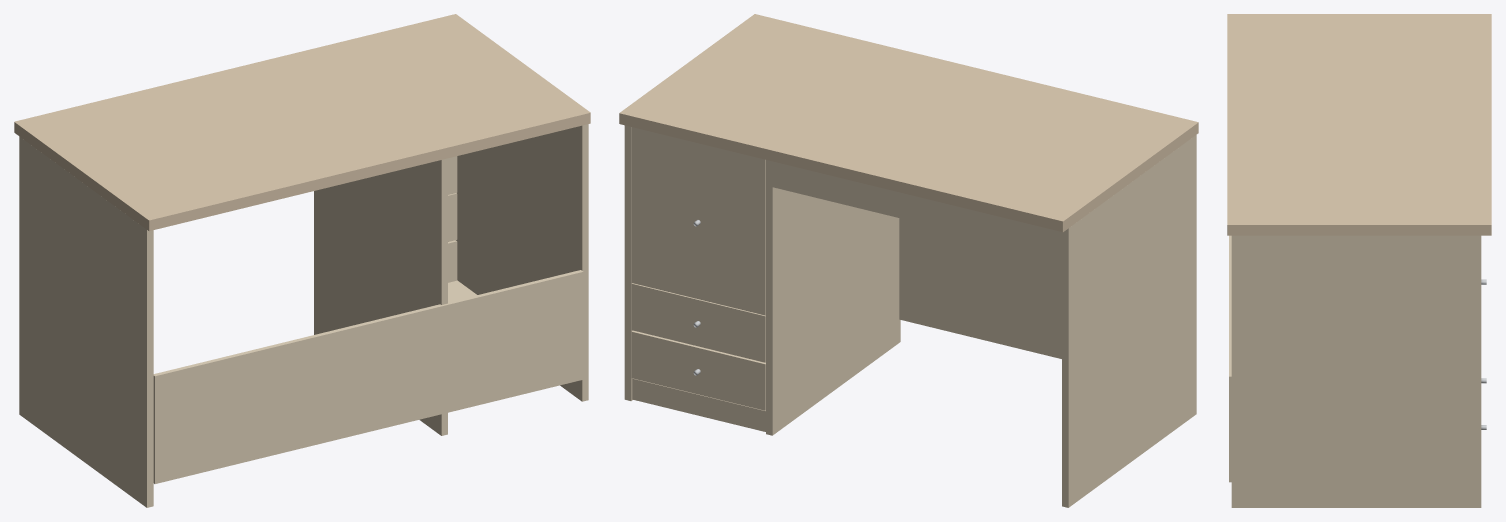
Rendered from table.fbx.
The picture shows the model from 3 angles, left to right: view 1: azimuth 30°, elevation 25°; view 2: azimuth 150°, elevation 25°; view 3: azimuth 270°, elevation 25°; orthographic projection. The views are drawn at different scales.
Visible parts, largest first — view 1: DeskTop, Modesty, Side_L, Side_R, Pedestal_Part; view 2: DeskTop, Side_L, Pedestal_Part, DrawerFace_3, Modesty, FrontRail, DrawerFace_1, DrawerFace_2, Plinth, Side_R; view 3: Side_R, DeskTop, Modesty.
Boxes of the visible parts, box(x1,y1,x2,y2) form: DeskTop: box(14, 14, 590, 231); Modesty: box(153, 270, 583, 483); Side_L: box(19, 136, 153, 507); Side_R: box(456, 124, 588, 401); Pedestal_Part: box(314, 158, 447, 435); DeskTop: box(619, 14, 1198, 232); Side_L: box(1062, 135, 1196, 507); Pedestal_Part: box(766, 160, 900, 435); DrawerFace_3: box(631, 127, 765, 315); Modesty: box(899, 218, 1061, 358); FrontRail: box(772, 161, 1061, 257); DrawerFace_1: box(631, 330, 765, 410); DrawerFace_2: box(631, 283, 765, 362); Plinth: box(632, 378, 765, 431); Side_R: box(624, 125, 632, 400); Side_R: box(1231, 235, 1481, 507); DeskTop: box(1227, 14, 1491, 235); Modesty: box(1229, 235, 1231, 482).
Size of the model in its own units: 120 by 75 by 63.5.
